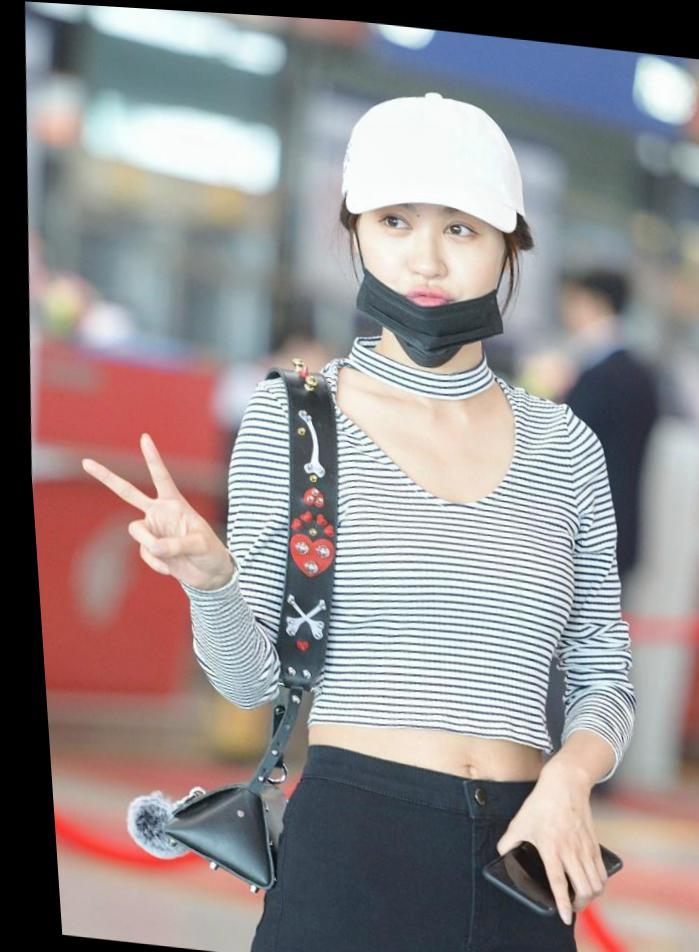WRONG: (347, 184, 506, 352)
